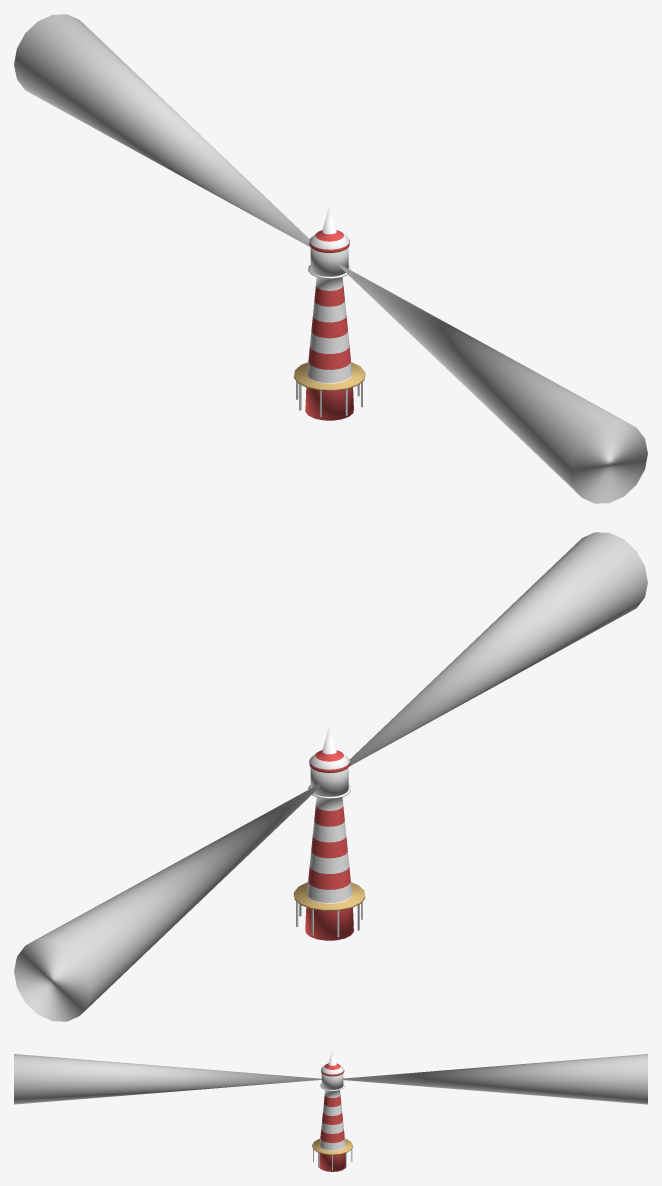
File: Lighthouse.fbx
3 renders of one model, top to bottom at view 1: azimuth 30°, elevation 25°; view 2: azimuth 150°, elevation 25°; view 3: azimuth 270°, elevation 25°, orthographic. The views are drawn at different scales.
Visible parts, largest first — view 1: Cone.001, Cone, Cylinder.002, Cylinder.003, Circle; view 2: Cone, Cone.001, Cylinder.002, Cylinder.003, Circle; view 3: Cone.001, Cone, Cylinder.002, Cylinder.003, Circle.
Boxes of the visible parts, x1,y1,x2,y2 form: Cone.001: (338, 264, 647, 503); Cone: (14, 14, 310, 247); Cylinder.002: (293, 265, 365, 420); Cylinder.003: (309, 206, 349, 252); Circle: (310, 247, 348, 276); Cone: (14, 783, 321, 1021); Cone.001: (349, 532, 647, 766); Cylinder.002: (293, 785, 365, 940); Cylinder.003: (309, 726, 349, 773); Circle: (310, 767, 348, 796); Cone.001: (14, 1054, 321, 1104); Cone: (343, 1054, 647, 1104); Cylinder.002: (312, 1083, 352, 1171); Cylinder.003: (321, 1050, 344, 1076); Circle: (321, 1073, 343, 1089).
Size of the model in its own units: 17.57 by 44.32 by 220.
